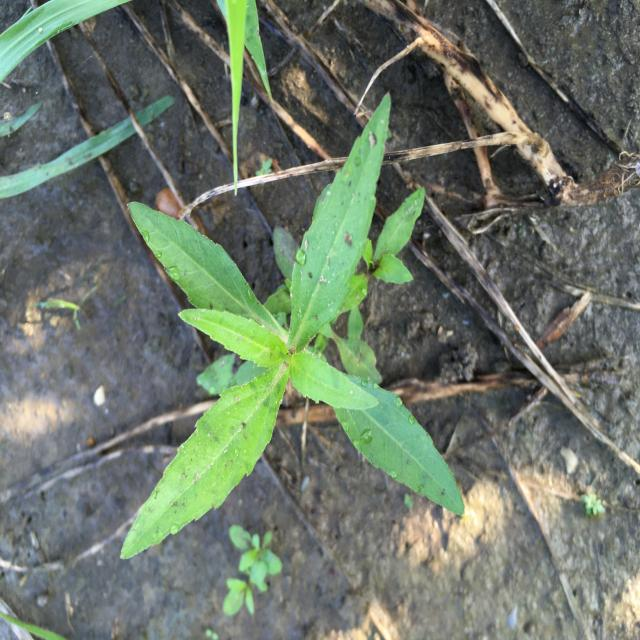Eclipta: (117, 88, 468, 564)
